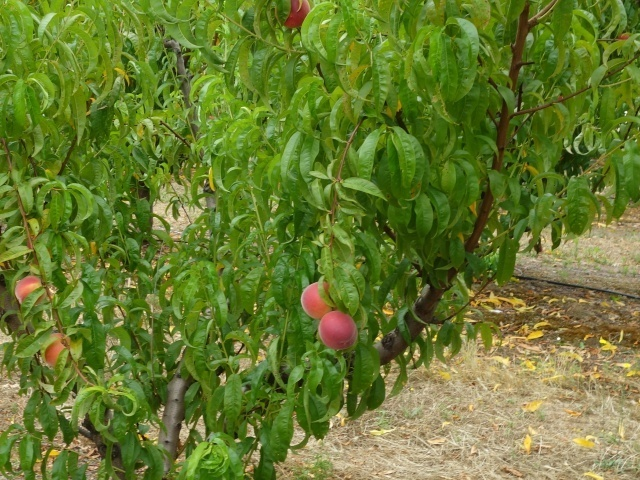peach: (316, 307, 363, 350), (298, 278, 341, 322), (37, 330, 80, 370), (9, 271, 47, 309), (276, 1, 315, 33)
